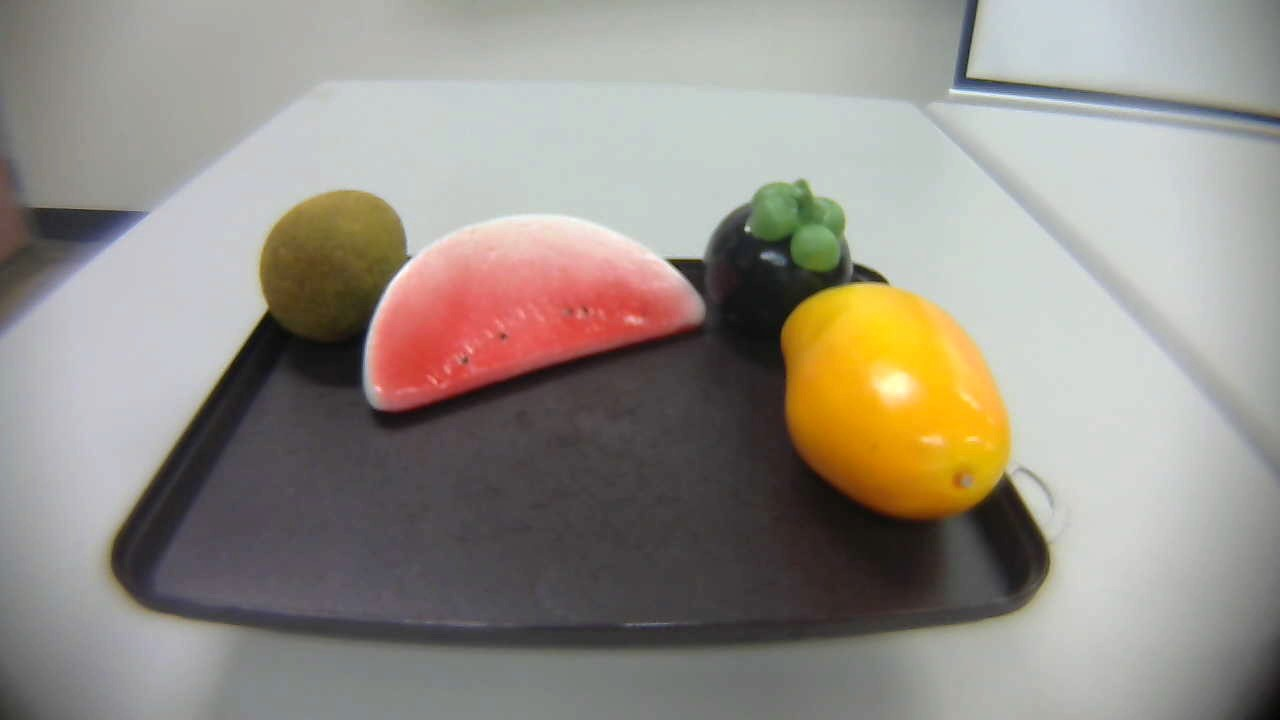kiwi fruit: (250, 179, 410, 345)
mangosteen: (697, 163, 863, 356)
water melon: (360, 204, 710, 424)
yellow mango: (777, 276, 1028, 526)
